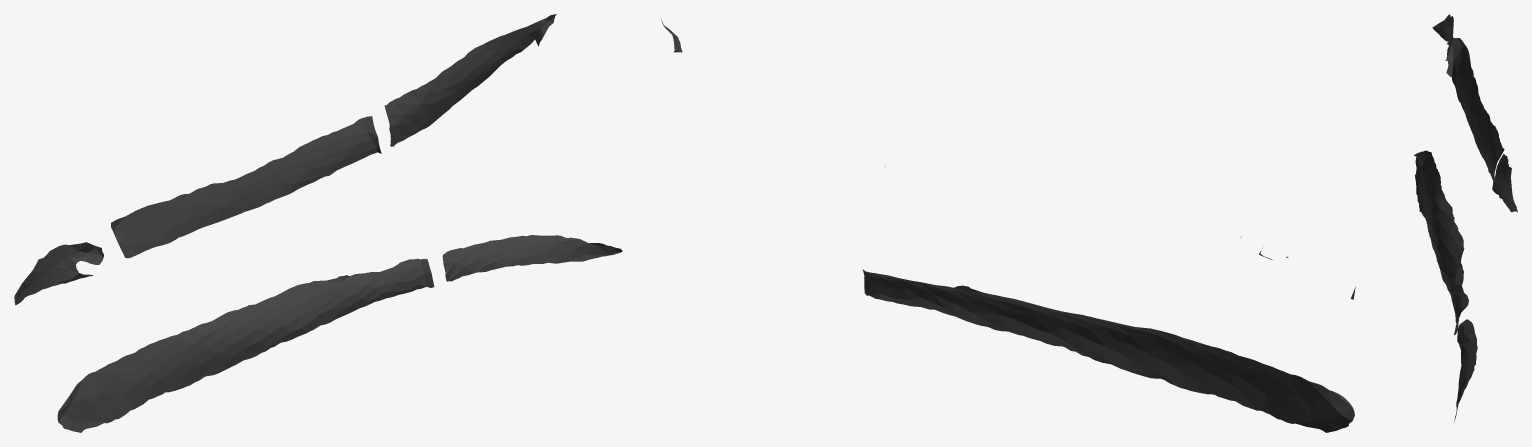
The model's file is M_iliopsoas_L_R_M_iliopsoas_L_R.glb.
The picture shows the model from 3 angles, left to right: view 1: azimuth 30°, elevation 25°; view 2: azimuth 150°, elevation 25°; view 3: azimuth 270°, elevation 25°; orthographic projection. The views are drawn at different scales.
Parts seen in each view (by area): view 1: M_iliopsoas_L_R_M_iliopsoas_L_R; view 2: M_iliopsoas_L_R_M_iliopsoas_L_R; view 3: M_iliopsoas_L_R_M_iliopsoas_L_R.
Boxes of the visible parts, left/top/right/bottom form: M_iliopsoas_L_R_M_iliopsoas_L_R: left=14, top=14, right=622, bottom=432; M_iliopsoas_L_R_M_iliopsoas_L_R: left=661, top=19, right=1355, bottom=432; M_iliopsoas_L_R_M_iliopsoas_L_R: left=1414, top=14, right=1517, bottom=422.
Bounding box in the file's own units: 0.0839 × 0.0339 × 0.0123.
Materials: 1 (1 with a texture image).
